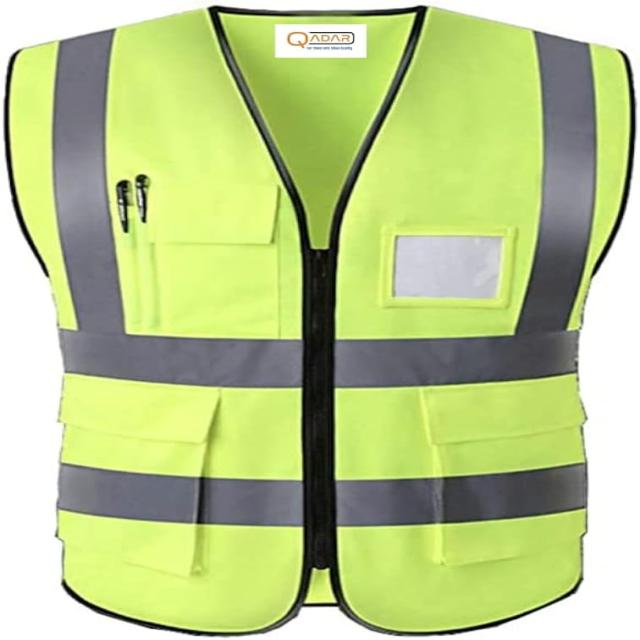safety_jacket: (12, 5, 640, 640)
